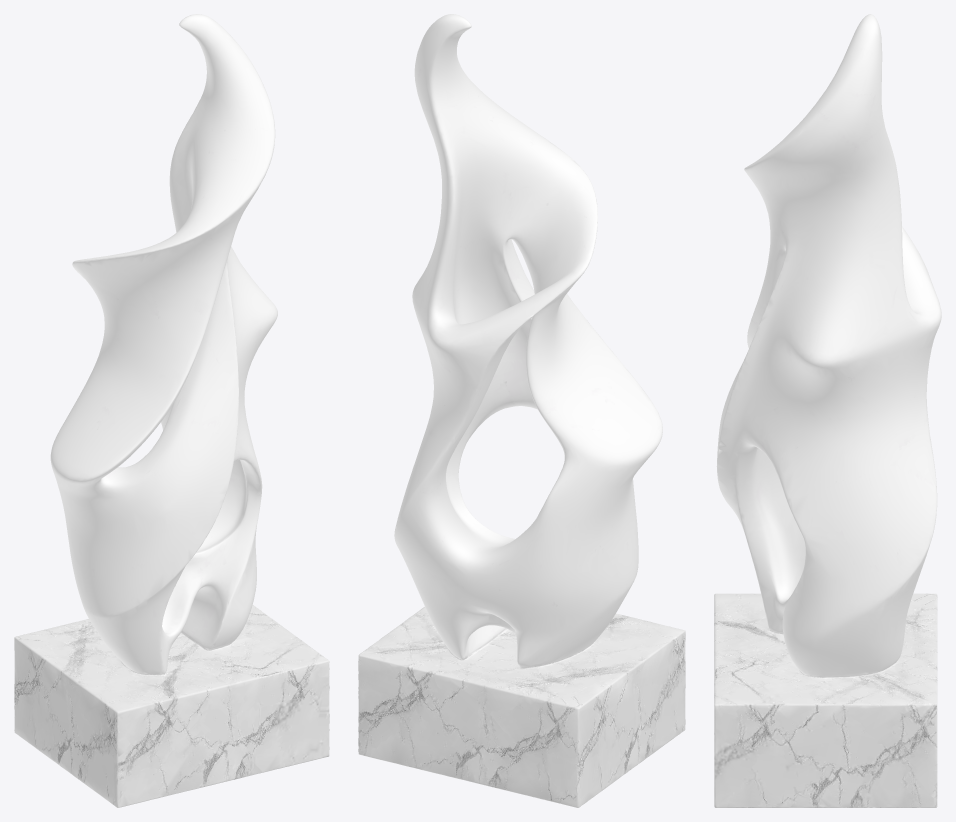
3 renders of one model, left to right at view 1: azimuth 30°, elevation 25°; view 2: azimuth 150°, elevation 25°; view 3: azimuth 270°, elevation 25°, orthographic. The views are drawn at different scales.
Visible parts, largest first — view 1: Mesh_0; view 2: Mesh_0; view 3: Mesh_0.
Boxes of the visible parts, bbox=[...] form: Mesh_0: bbox=[14, 14, 329, 807]; Mesh_0: bbox=[358, 14, 685, 807]; Mesh_0: bbox=[714, 14, 941, 807].
Bounding box in the file's own units: 0.6307 × 1.9 × 0.5165.
Materials: 1 (1 with a texture image).
